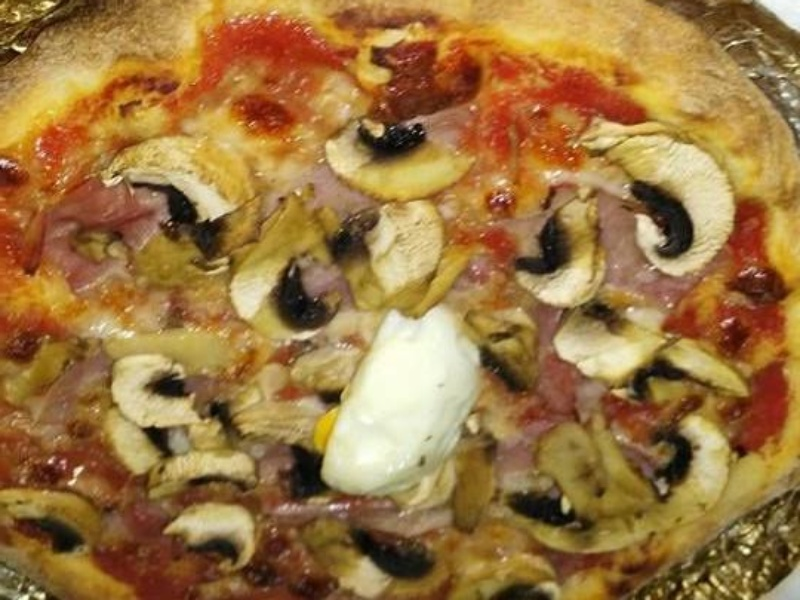champignon: (604, 123, 745, 287), (318, 97, 486, 206), (105, 122, 264, 228), (507, 191, 625, 316), (228, 234, 350, 354), (657, 403, 743, 511), (100, 349, 205, 434), (162, 496, 262, 572)
